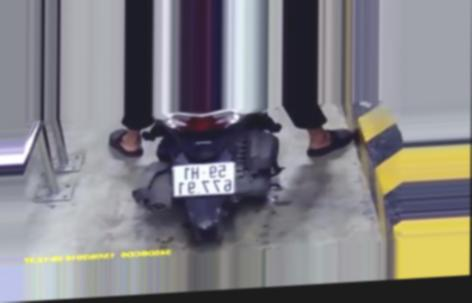License_Plate: (168, 159, 239, 199)
